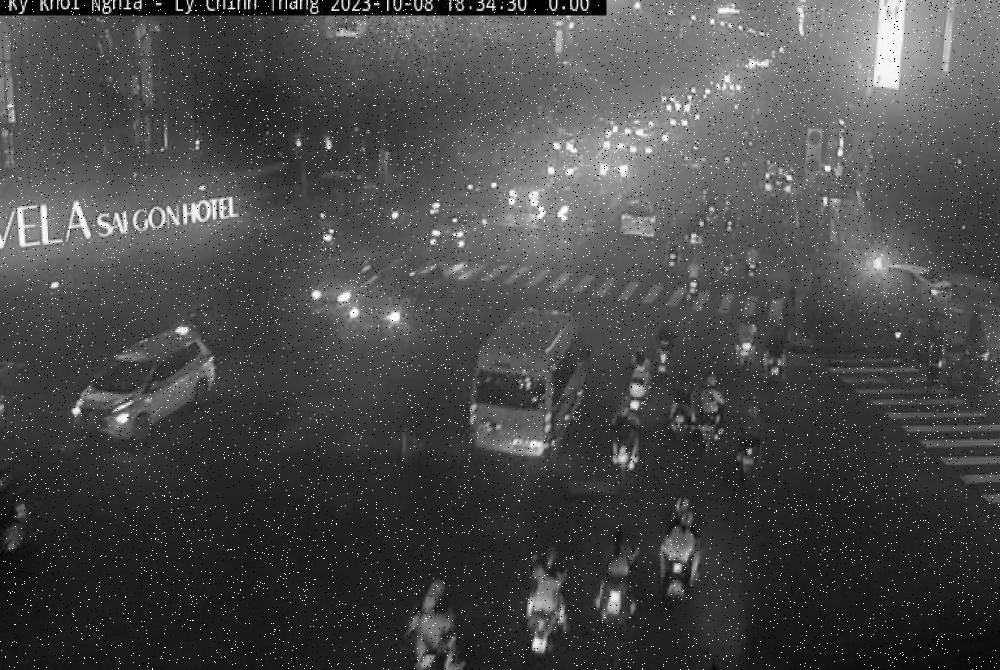car: (469, 306, 587, 456), (73, 327, 215, 448), (0, 460, 30, 584)
